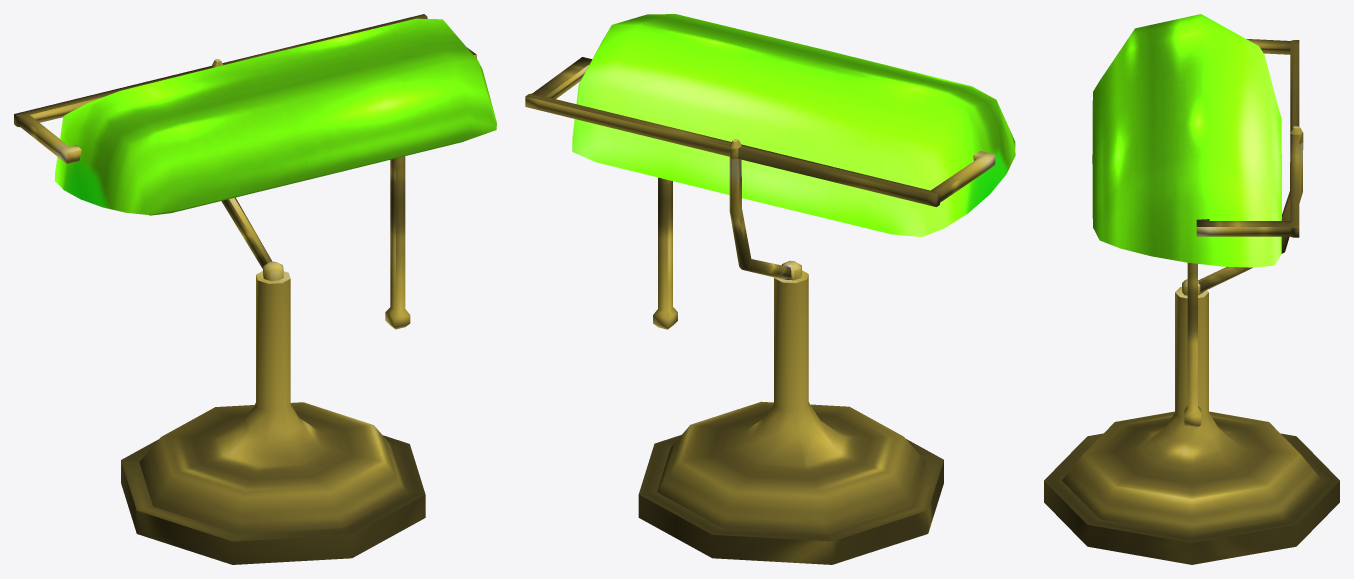
Rendered from lamp_banker.fbx.
3 views of the same model, side by side, from view 1: azimuth 30°, elevation 25°; view 2: azimuth 150°, elevation 25°; view 3: azimuth 270°, elevation 25° (orthographic). The views are drawn at different scales.
Parts seen in each view (by area): view 1: lamp_banker; view 2: lamp_banker; view 3: lamp_banker.
Boxes of the visible parts, x1=… form: lamp_banker: x1=14, y1=14, x2=496, y2=564; lamp_banker: x1=525, y1=14, x2=1015, y2=564; lamp_banker: x1=1044, y1=14, x2=1339, y2=564.
Size of the model in its own units: 45.2 by 46.26 by 29.88.
Materials: 1 (1 with a texture image).
